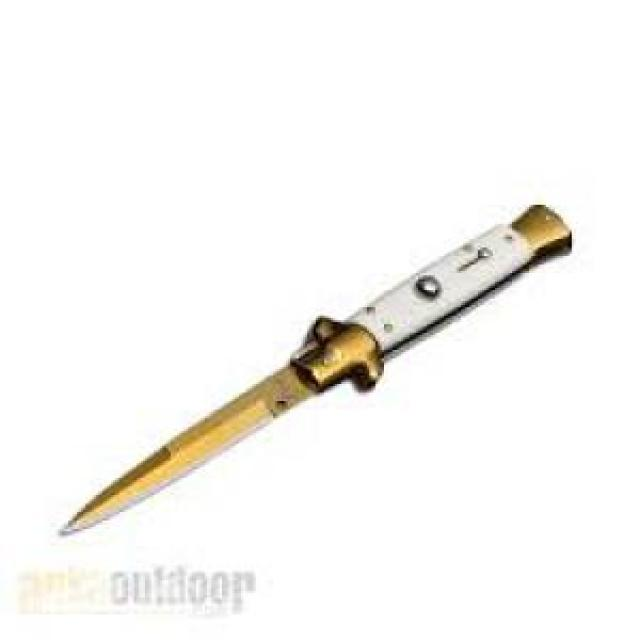knife: (60, 200, 580, 552)
